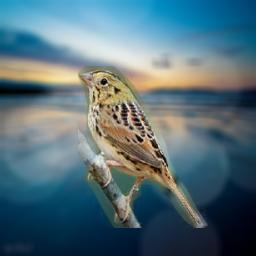Sparrow: (78, 66, 208, 228)
